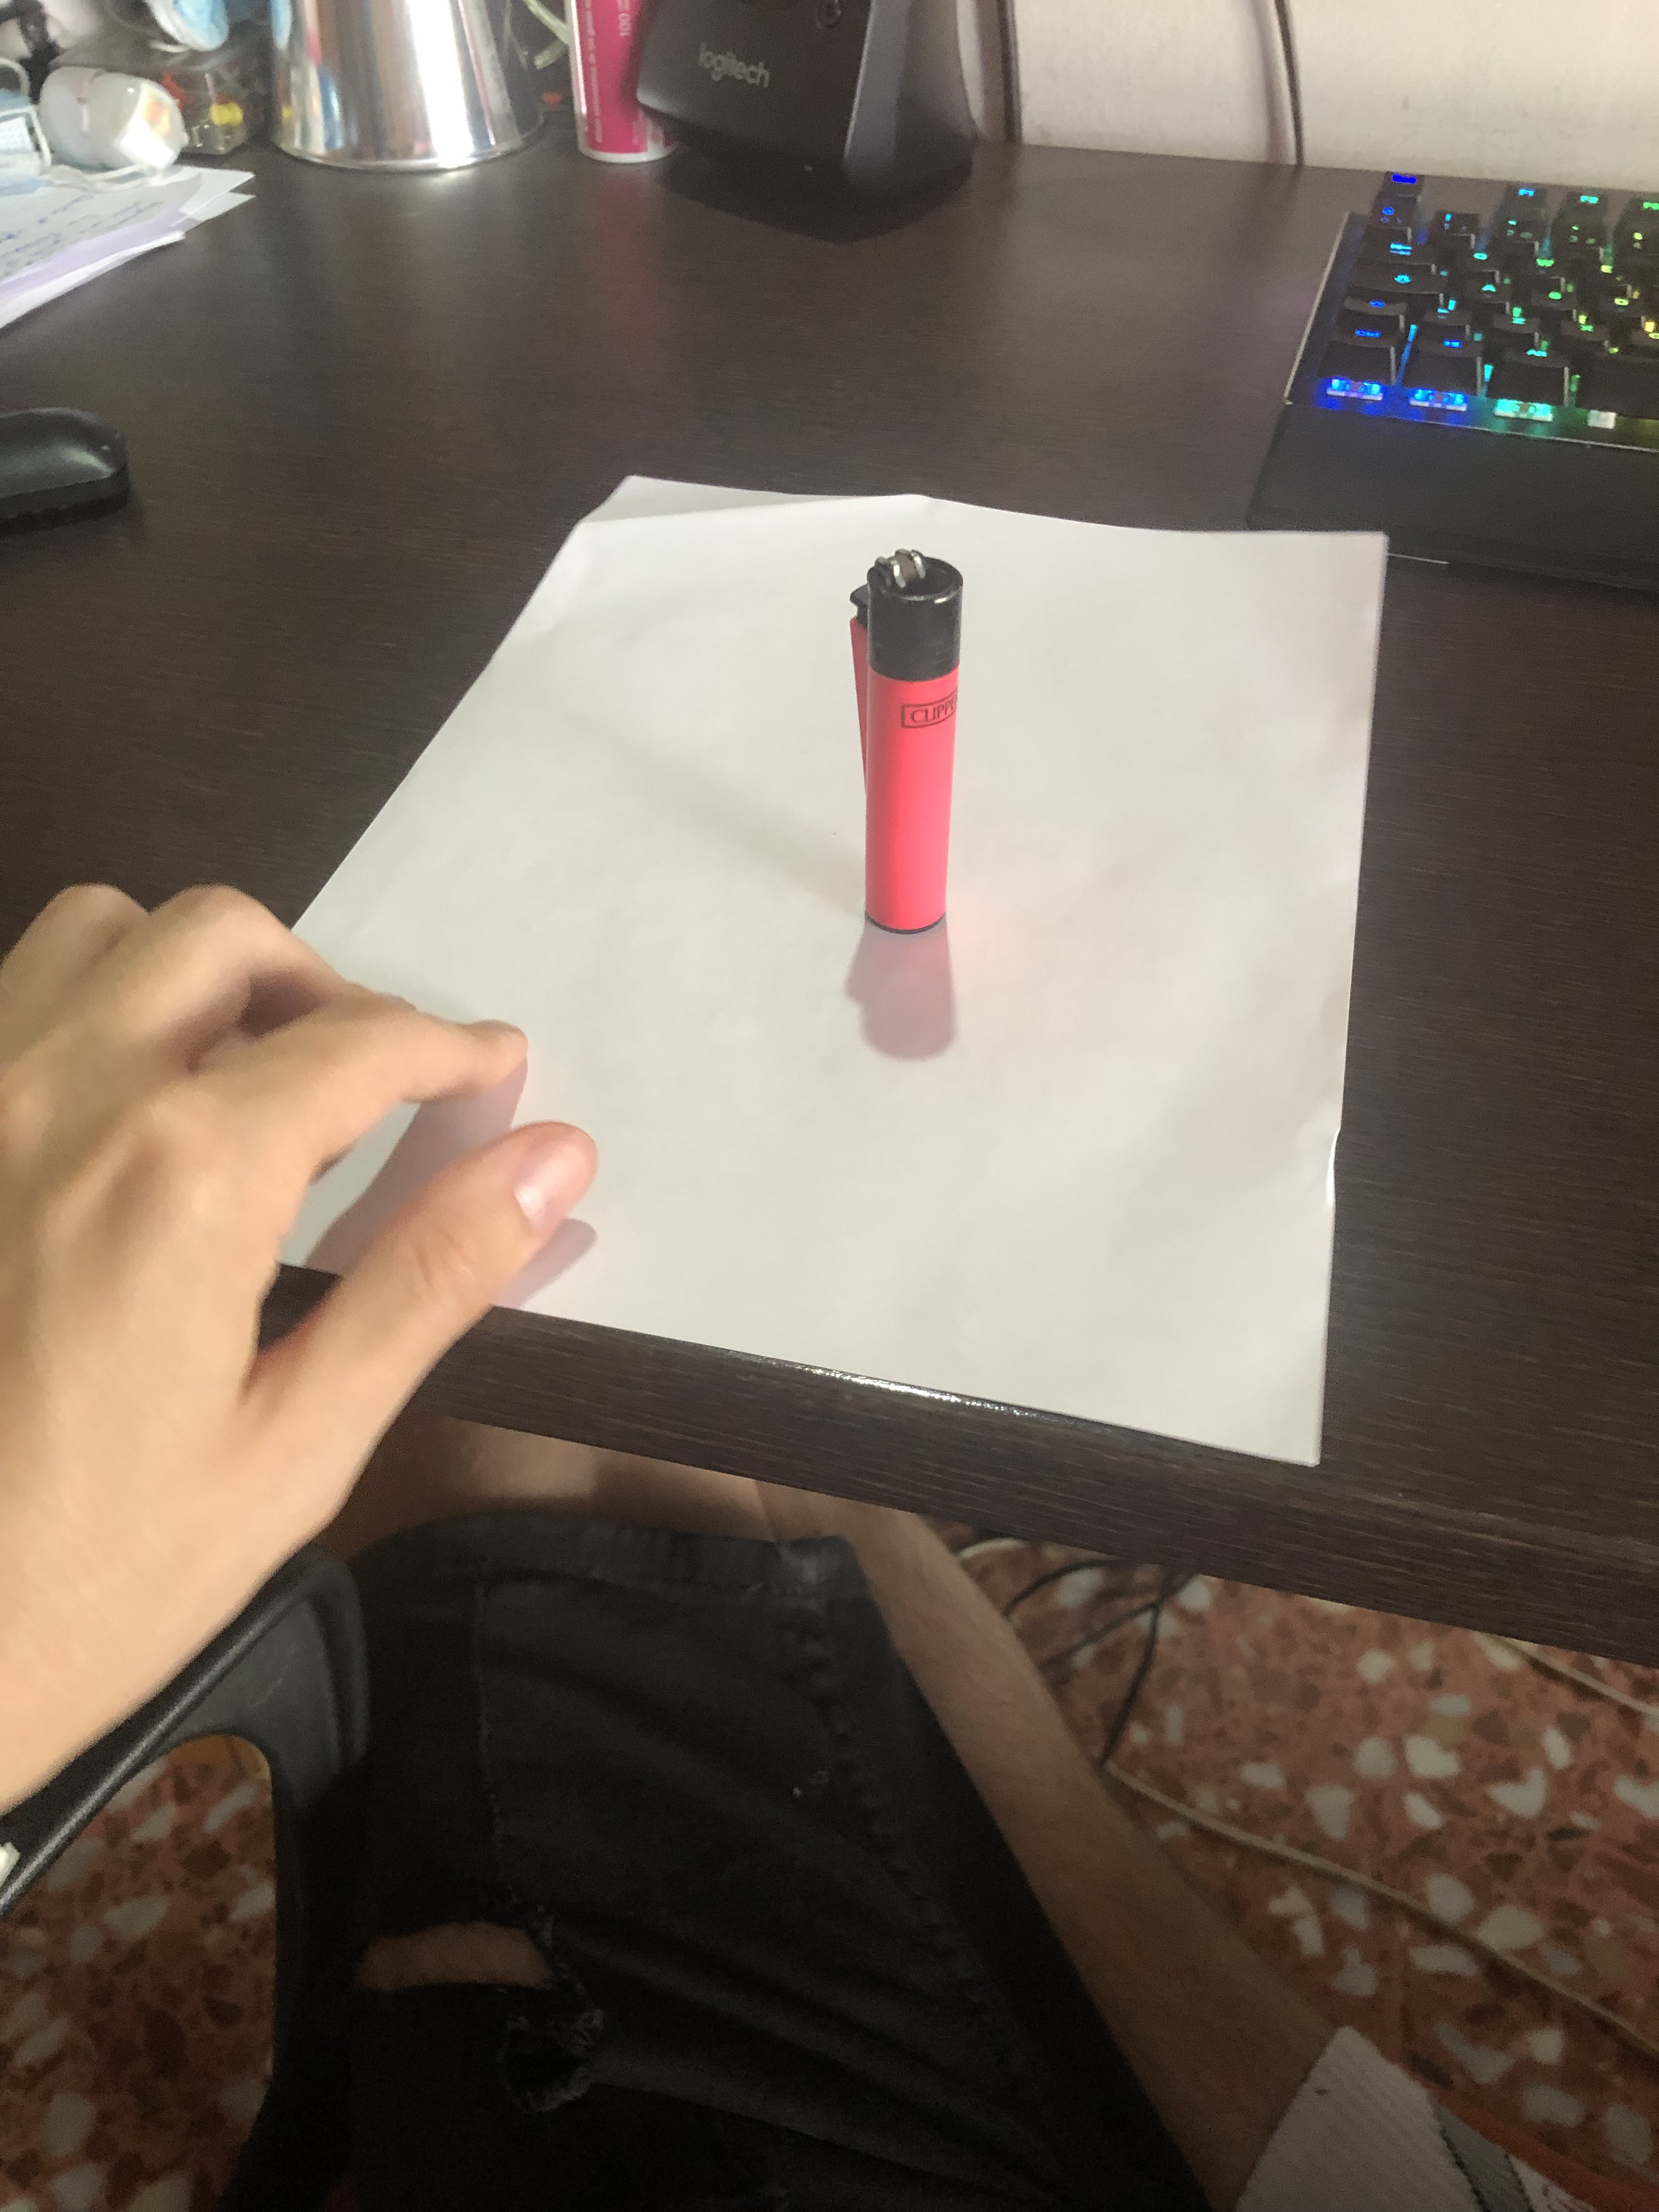Mechero: (835, 521, 1025, 991)
